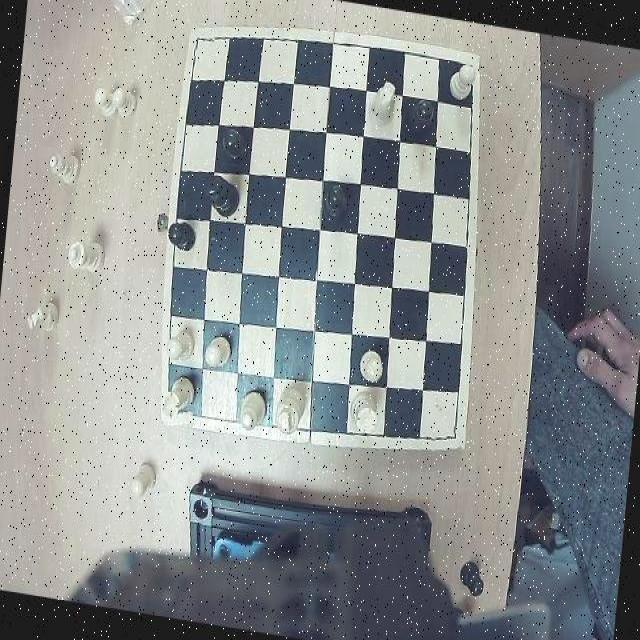chess-table-corners: (429, 423, 463, 458), (162, 399, 196, 434), (450, 56, 480, 87), (189, 30, 215, 60)
